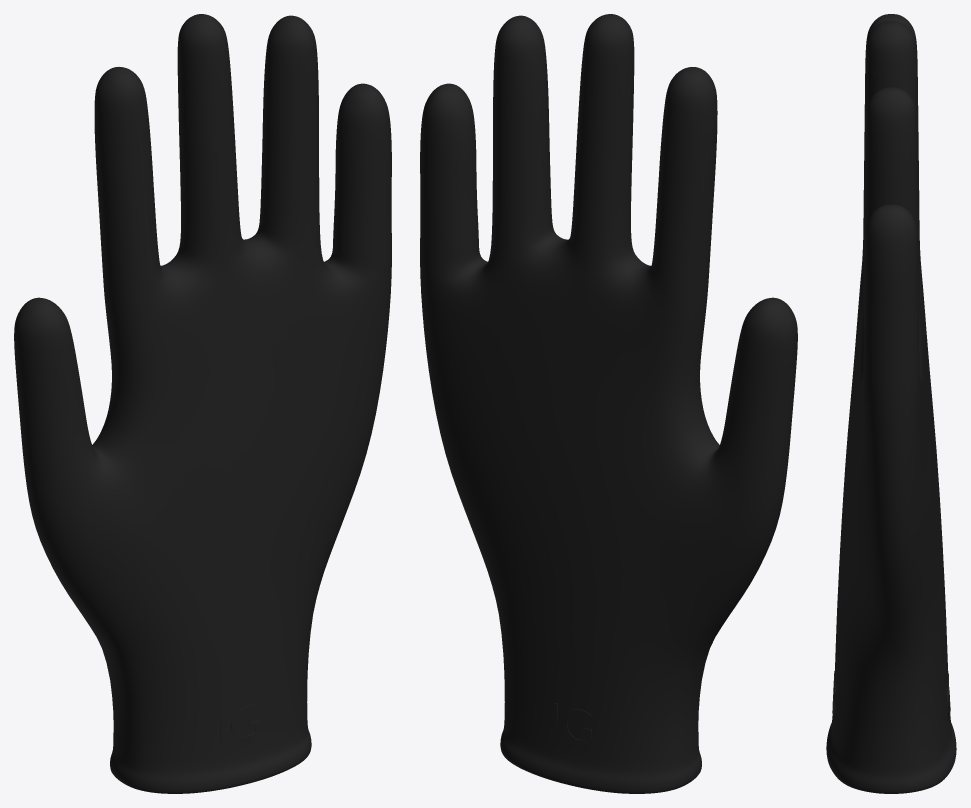
File: dual-tone-zig-8-mil--dual-tone.glb
3 views of the same model, side by side, from view 1: azimuth 30°, elevation 25°; view 2: azimuth 150°, elevation 25°; view 3: azimuth 270°, elevation 25° (orthographic). The views are drawn at different scales.
Visible parts, largest first — view 1: GLOVES, IG cuff front; view 2: GLOVES, IG cuff front; view 3: GLOVES.
Part boxes in pixels (bbox=[...]): GLOVES: bbox=[14, 14, 391, 793]; IG cuff front: bbox=[220, 704, 260, 746]; GLOVES: bbox=[420, 14, 797, 793]; IG cuff front: bbox=[552, 702, 591, 745]; GLOVES: bbox=[826, 14, 956, 793].
Size of the model in its own units: 0.1246 by 0.24 by 0.039.
2 materials, 1 textured.
